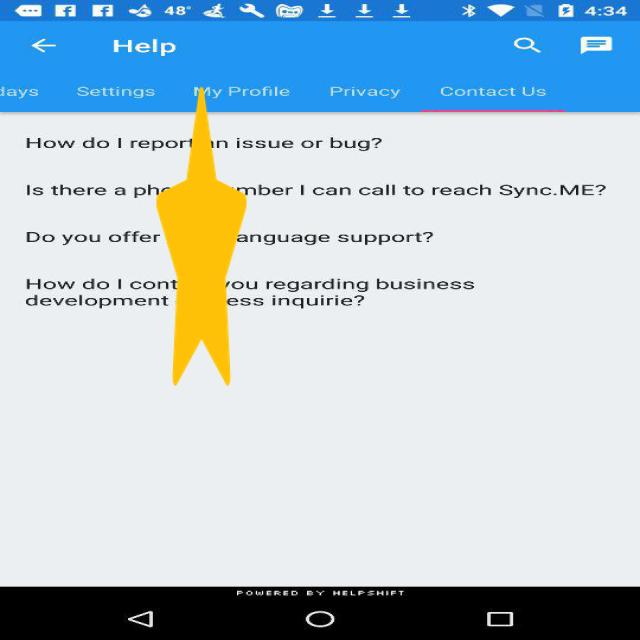forced continuity: (156, 87, 246, 386)
